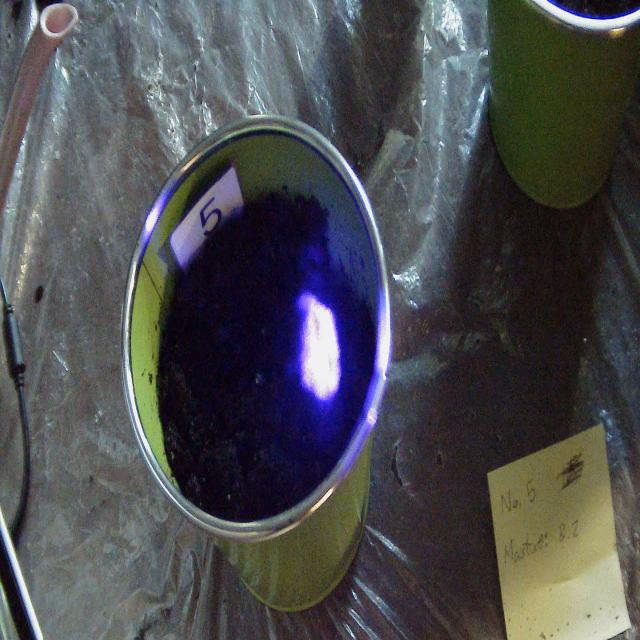soil-moisture-8.2: (296, 288, 343, 401)
